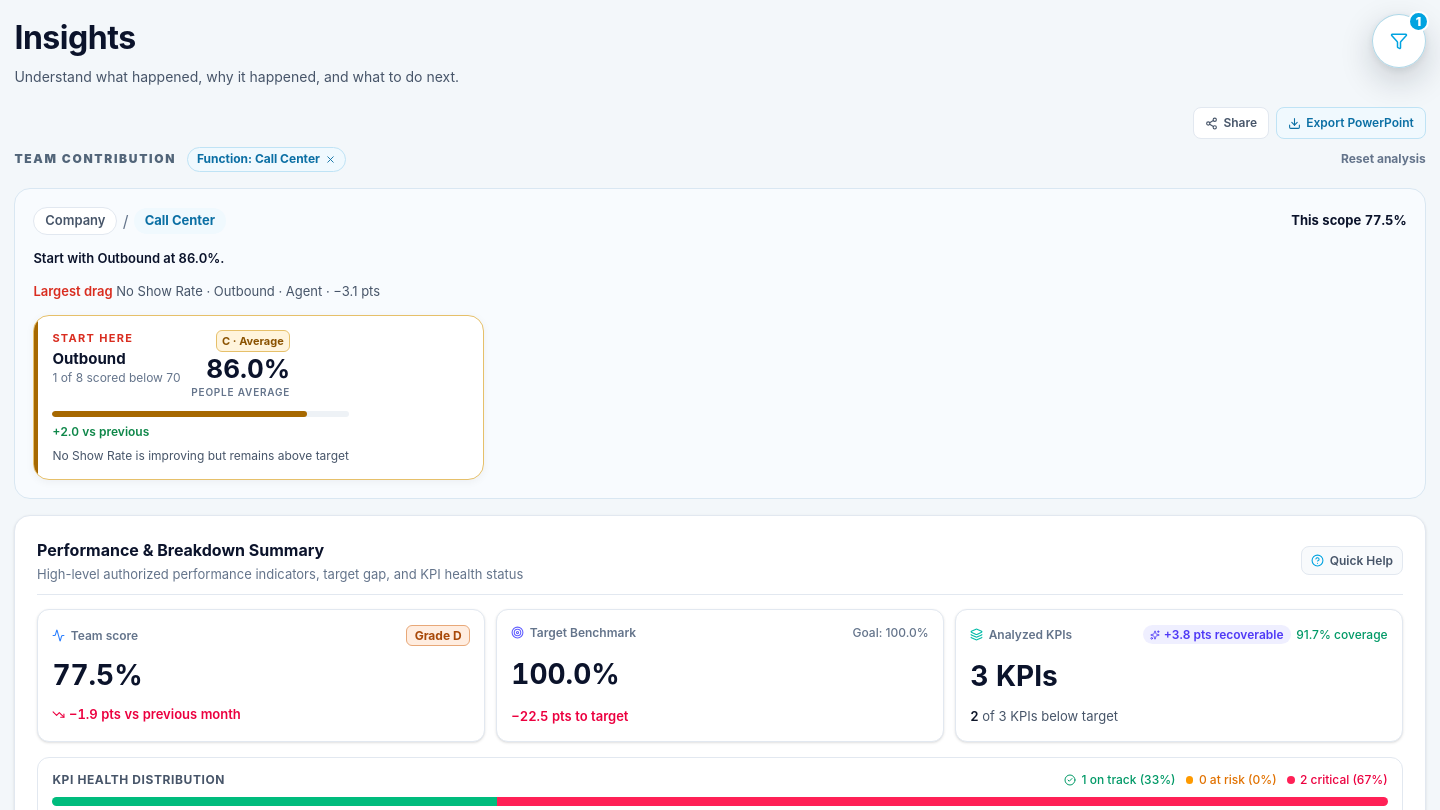
Test: InsightsView › reads legacy team=<function> links as a Function selection
Click the button named "Insights filters".
click(1399, 41)  # box [1372,14,1426,68]
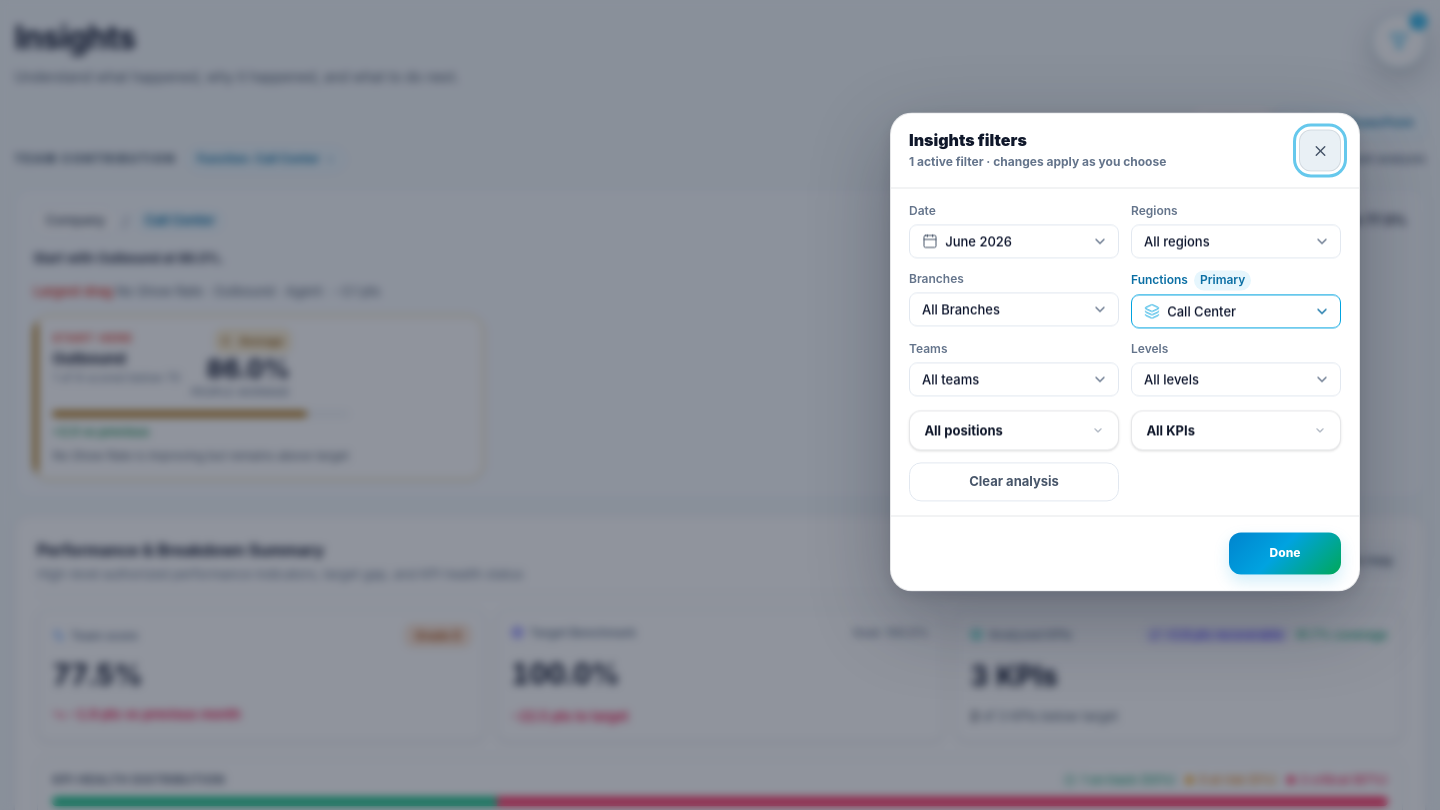
expect the text "Call Center" below "Team contribution" is shown: met, box [145,212,215,228]
expect the dropdown named "Function" shows "Call Center": met, box [1130,294,1159,330]
expect the dropdown named "Team" shows "All teams": met, box [908,362,937,398]
